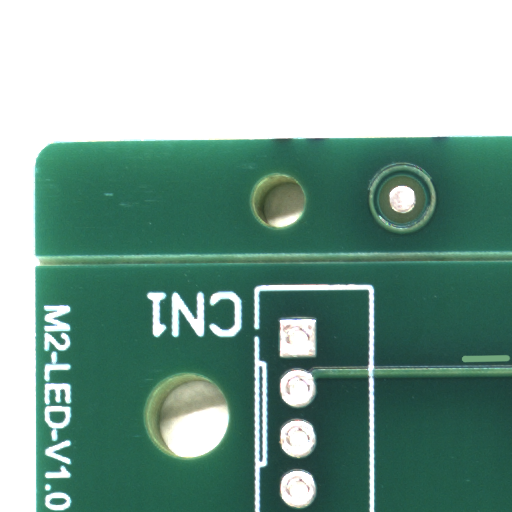Spurious_copper: (484, 358, 512, 369)
